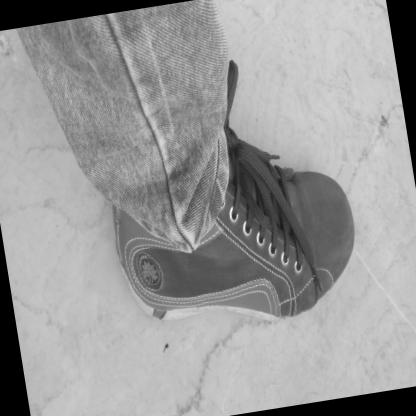ankle: (174, 232, 184, 246)
heel: (117, 248, 126, 262)
left_foot: (103, 131, 368, 346)
pinky: (340, 253, 346, 264)
toe: (325, 180, 331, 188)
